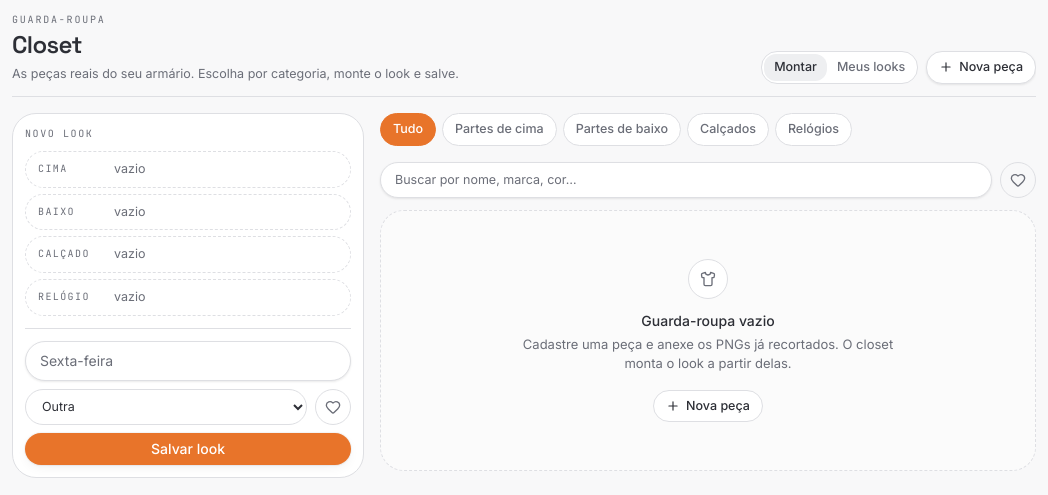
Scenario: saving and reopening a look › says the gallery is empty rather than drawing nothing
Click the button "Meus looks".
click(871, 67)  # box [827,54,915,81]
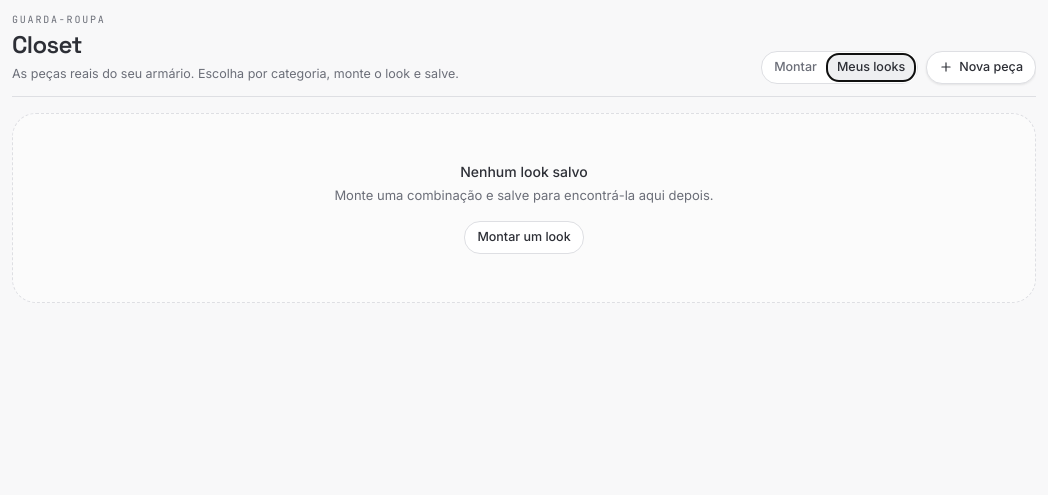
Expected: the text "Nenhum look salvo" is shown, [460,163,588,180]
